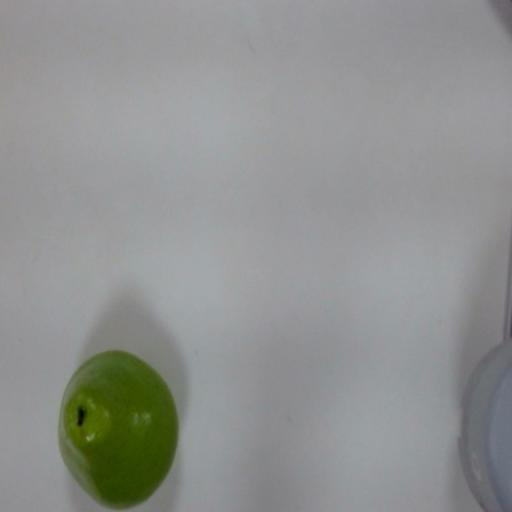Unripe: (49, 343, 197, 512)
